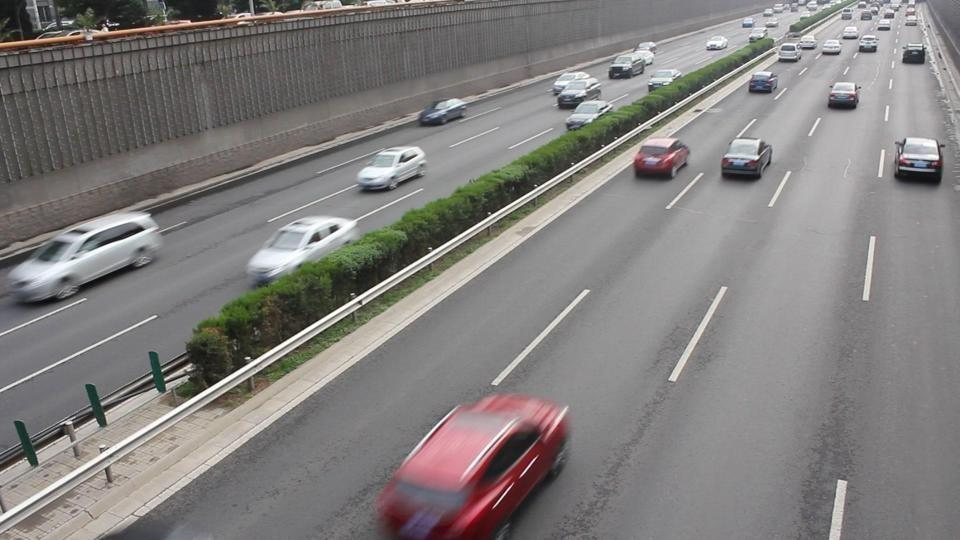car: (373, 390, 575, 537), (6, 208, 163, 304), (245, 214, 362, 288), (356, 145, 429, 192), (632, 136, 690, 180), (893, 137, 945, 182), (720, 138, 773, 180), (552, 71, 603, 109), (564, 99, 614, 132), (418, 98, 468, 126), (608, 50, 650, 79), (826, 80, 861, 110), (647, 68, 682, 92), (747, 70, 779, 94), (902, 43, 926, 64), (777, 42, 800, 62), (820, 38, 841, 56), (705, 36, 729, 51), (858, 35, 878, 53), (842, 25, 859, 39)
